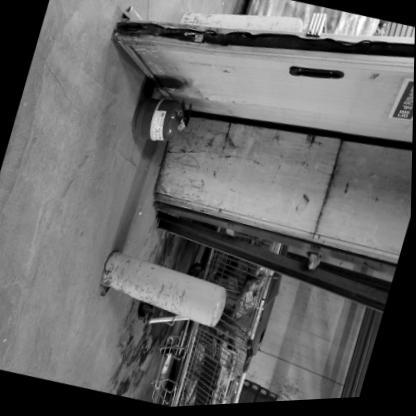FE: (125, 94, 193, 149)
